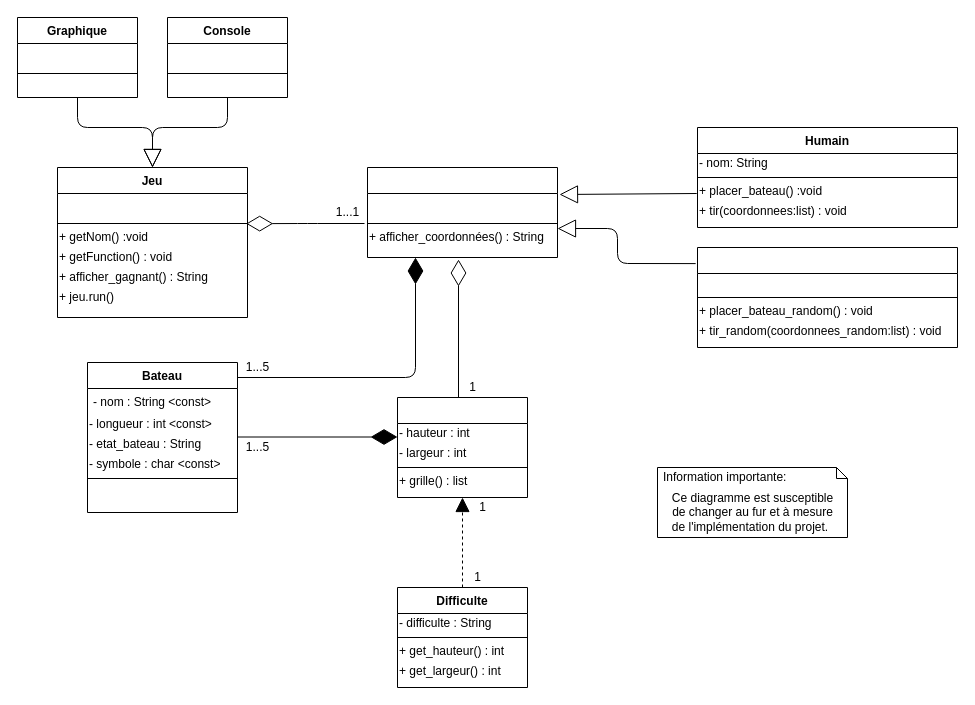
This 975x705 diagram has some shape labels left out. The box of each missing label's shape, as (x1, y1, x2, y2) in pixels:
Joueur: (366, 166, 558, 258)
Ocean: (396, 396, 528, 498)
Ordinateur: (696, 246, 958, 348)
